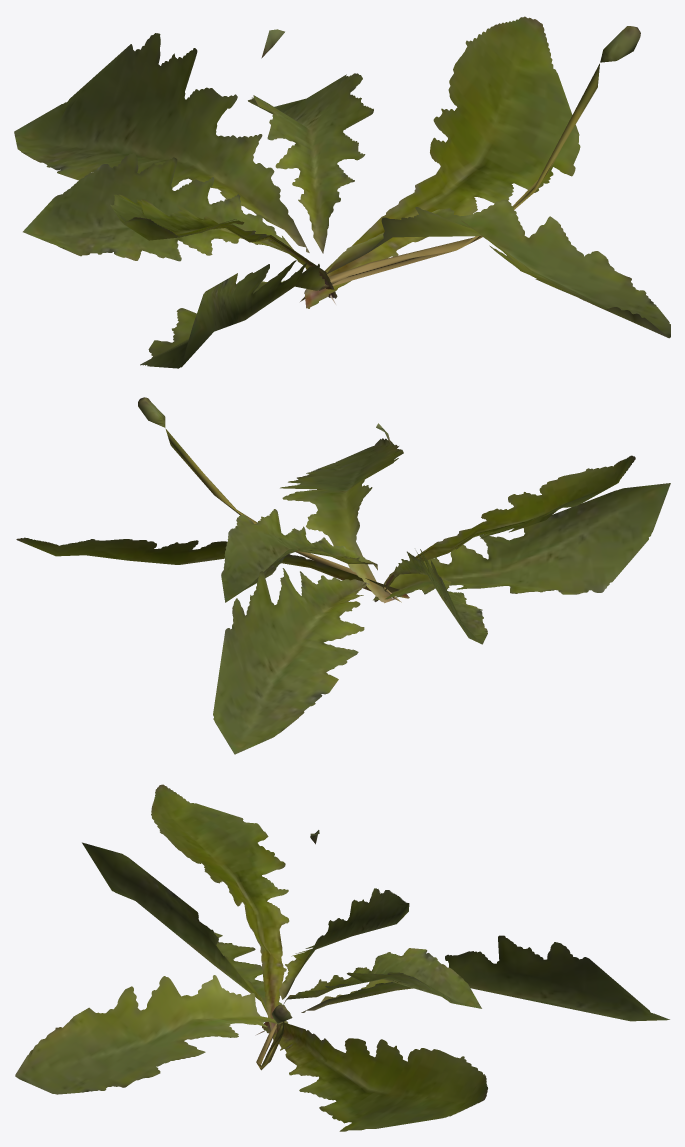
3 renders of one model, top to bottom at view 1: azimuth 30°, elevation 25°; view 2: azimuth 150°, elevation 25°; view 3: azimuth 270°, elevation 25°, orthographic. The views are drawn at different scales.
Visible parts, largest first — view 1: dandelion_01__d_lod1; view 2: dandelion_01__d_lod1; view 3: dandelion_01__d_lod1.
Part boxes in pixels (x1,y1,x2,y2): dandelion_01__d_lod1: [14, 16, 670, 368]; dandelion_01__d_lod1: [16, 397, 670, 754]; dandelion_01__d_lod1: [15, 784, 669, 1131].
Size of the model in its own units: 0.1265 by 0.0509 by 0.1501.
1 material, 1 textured.
